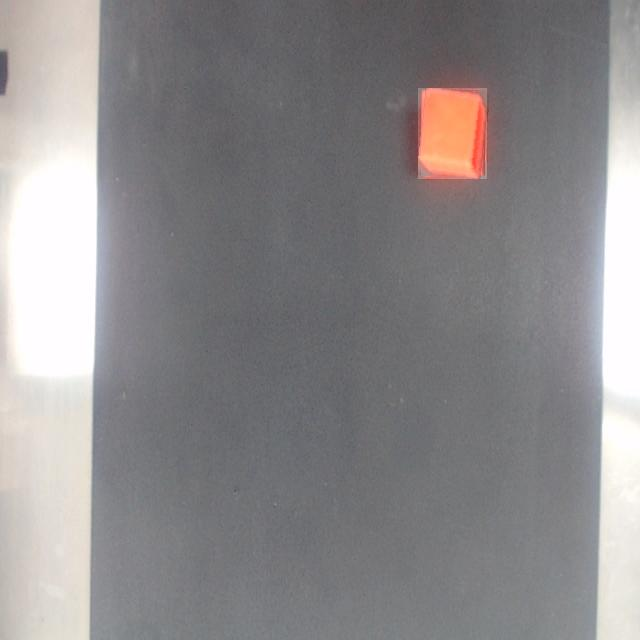Rojo: (419, 89, 487, 179)
